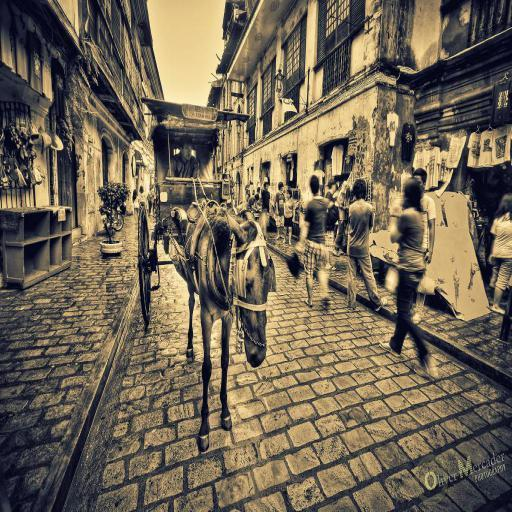horse: (186, 208, 272, 454)
